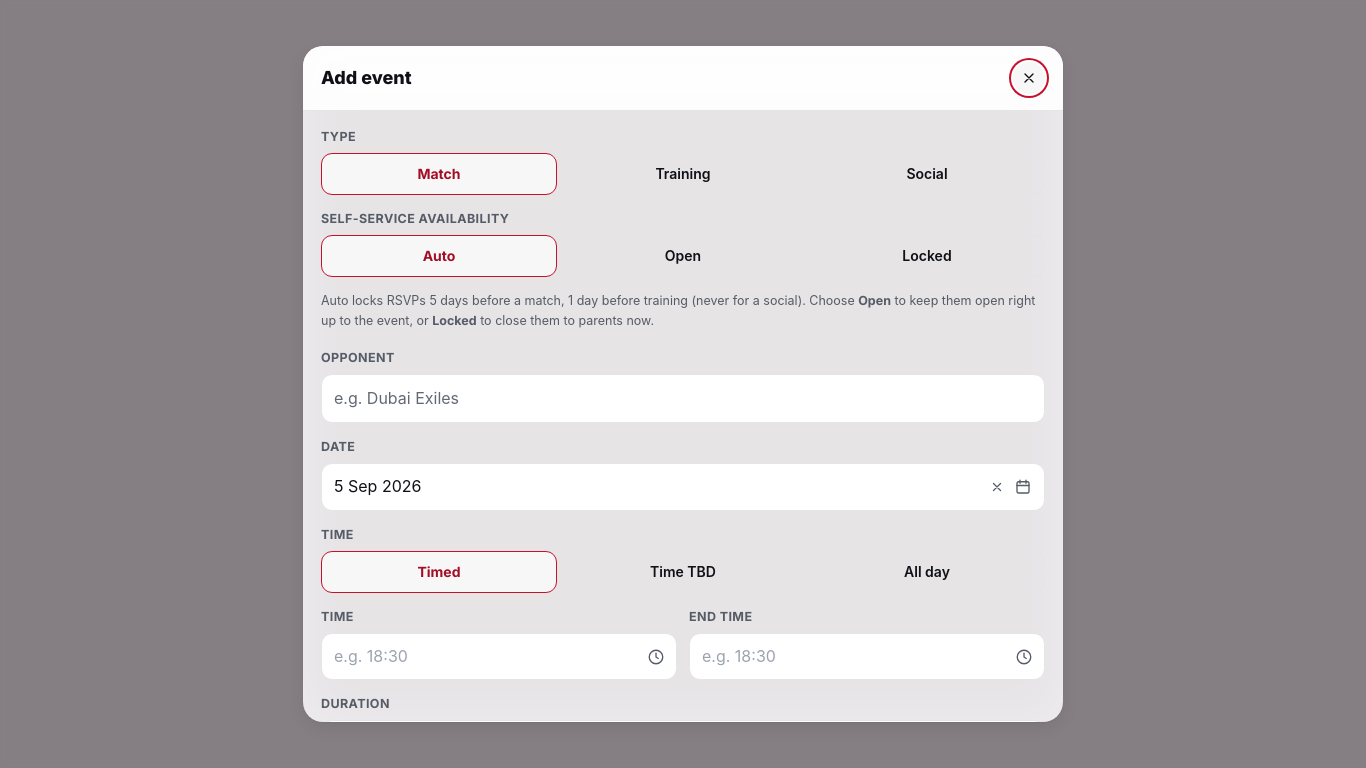
Test: EventForm — conditional fields › keeps the date, time, age group and venue fields for every type
Click the radio button labelled "Training": click(683, 174) [565,153,801,195]
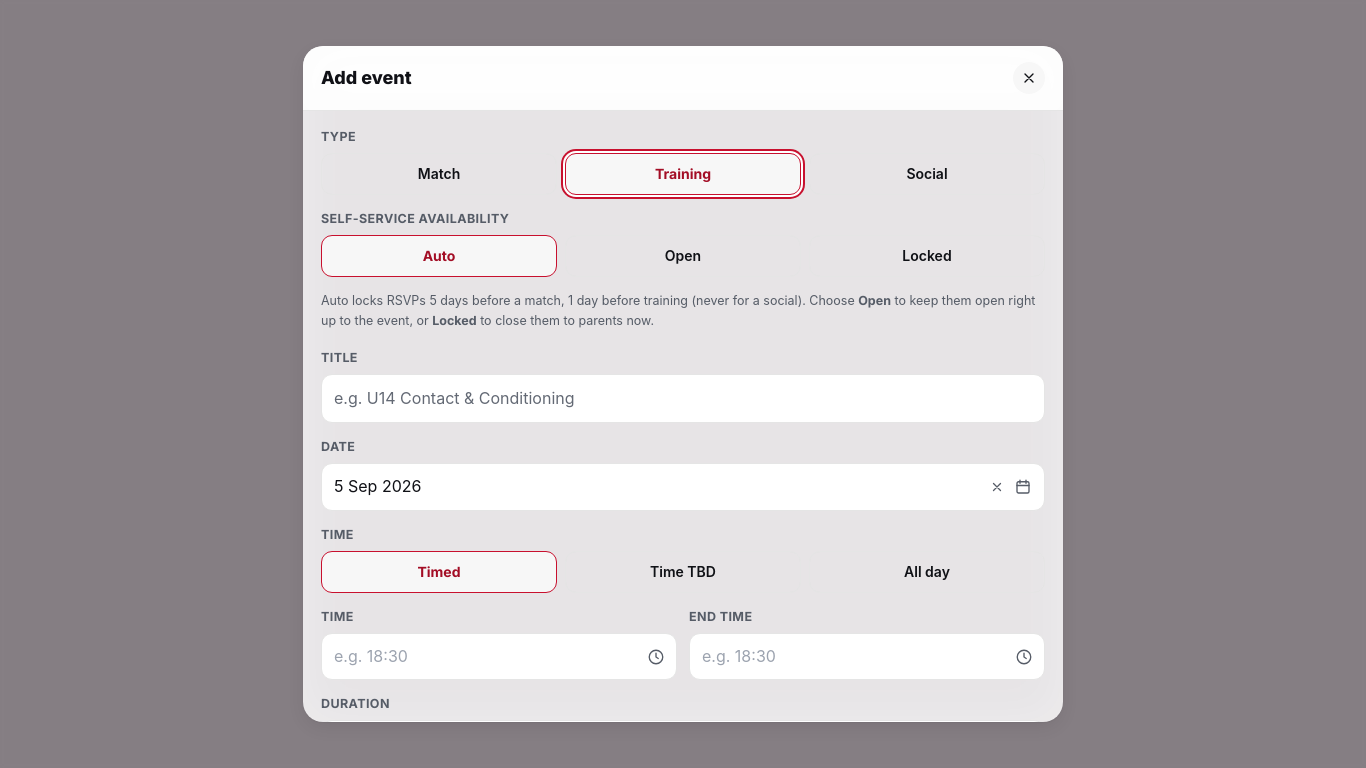
Expected: the button named "Date" is shown, [321,463,1045,511]
Expected: the field labelled "Time" is shown, [321,633,677,680]
Click the radio button labelled "Social": click(927, 174) [809,153,1045,195]
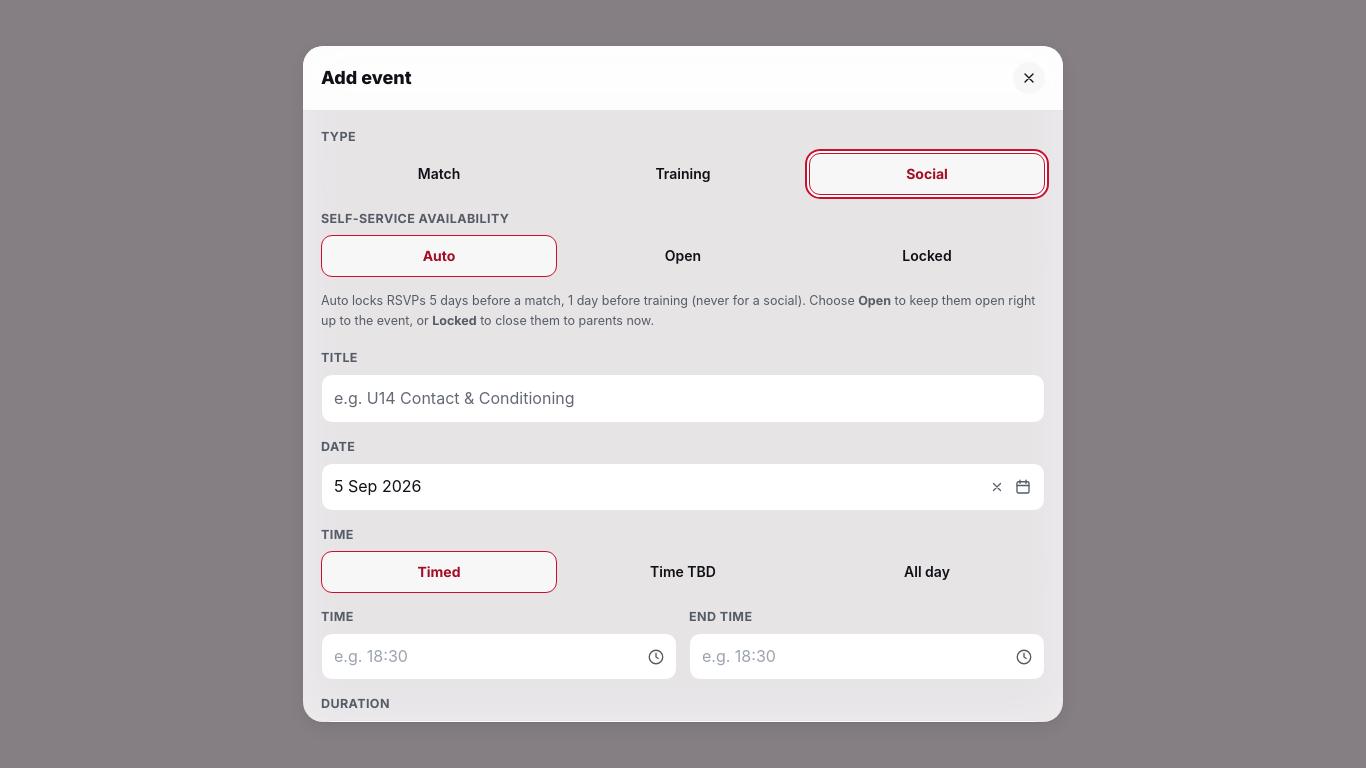
Expected: the button named "Date" is shown, [321,463,1045,511]
Expected: the field labelled "Time" is shown, [321,633,677,680]
Click the radio button labelled "Match": click(439, 174) [321,153,557,195]
(page scrolled)
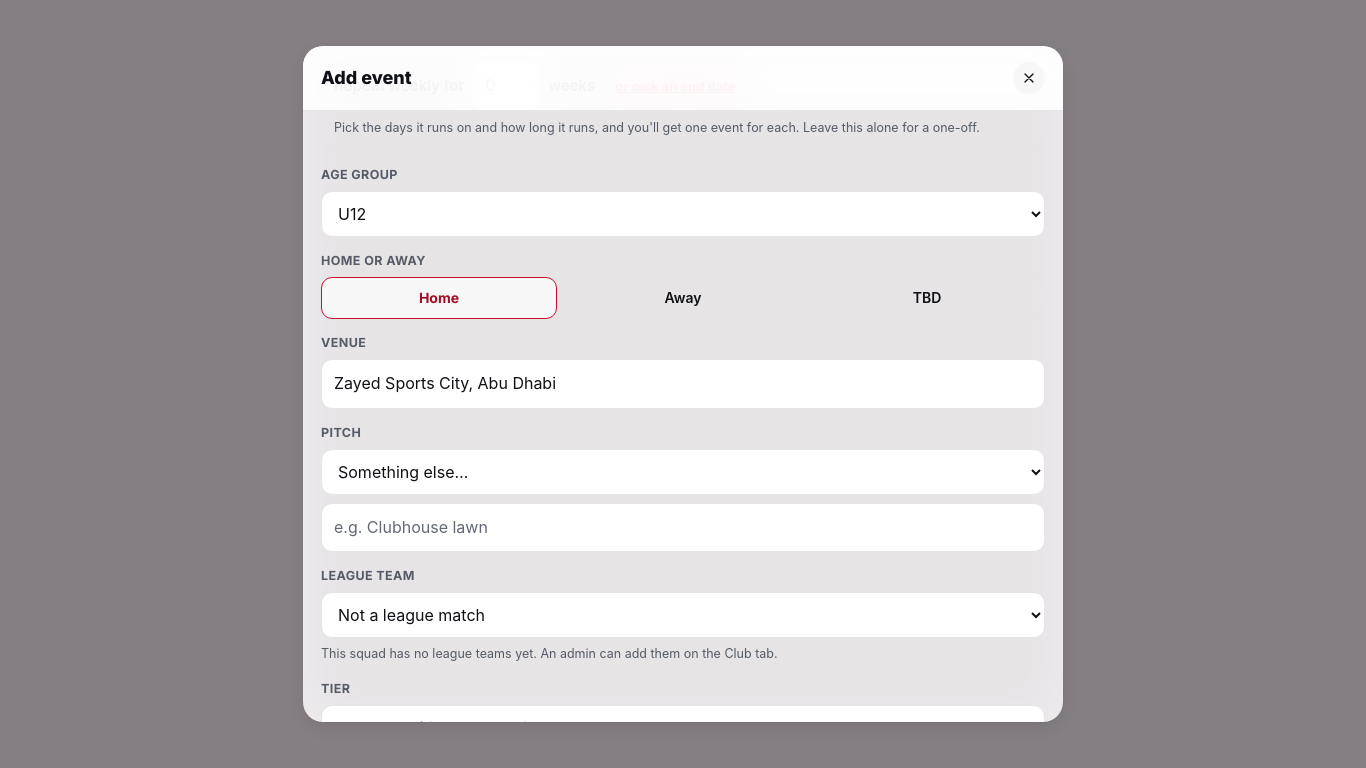
Result: the dropdown labelled "Age group" is shown at [321,191,1045,237]
Result: the field labelled "Venue" is shown at [321,359,1045,409]
